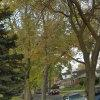Tree: (20, 6, 100, 80)
